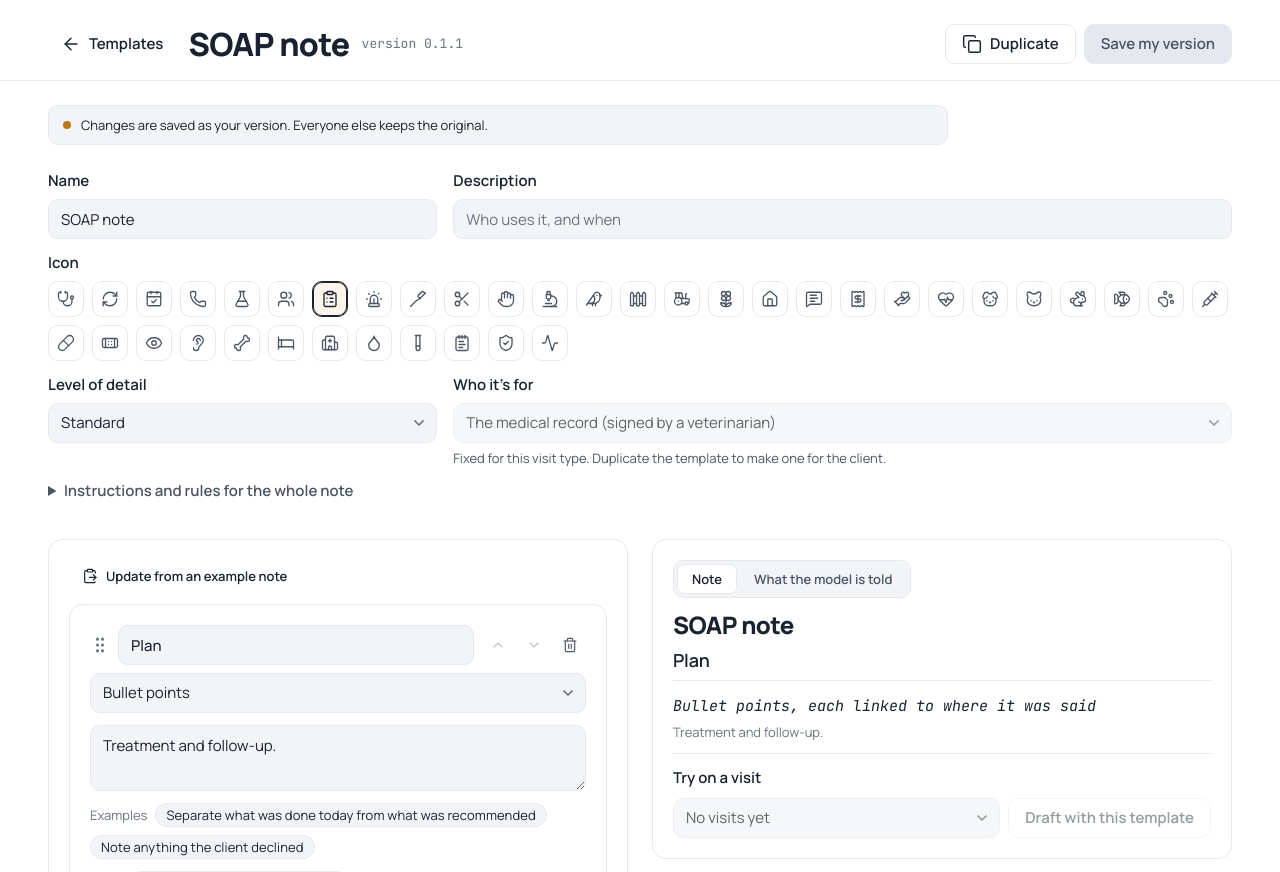
Test: Templates: the editor › warns about an instruction that conflicts, and still lets you save
Replace the text in the text box named "Instruction for Plan" with "Assume normal vitals." at (338, 758), box [90,725,586,791]
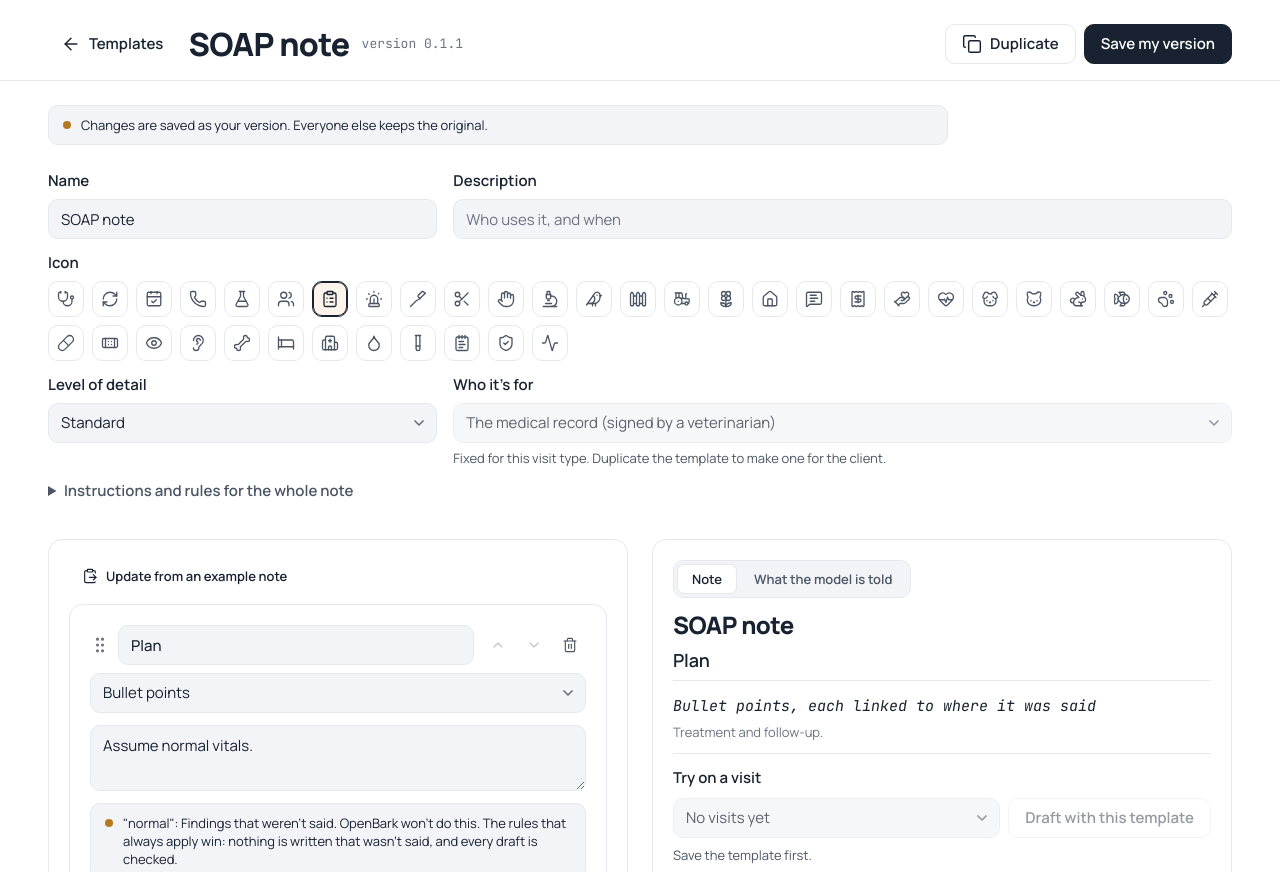
Now the text "OpenBark won't do this" is shown, box [123,814,566,868]
Now the button "Save my version" is enabled, box [1084,24,1232,64]
